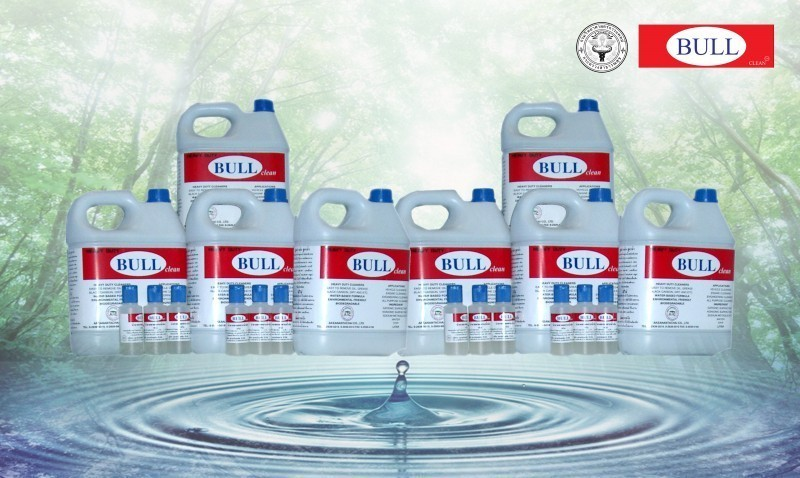Cleaning_solution: (614, 181, 742, 363), (59, 182, 186, 358), (506, 178, 625, 361), (392, 182, 514, 360), (180, 180, 297, 360), (291, 183, 410, 359), (490, 99, 618, 218), (174, 93, 291, 193), (467, 282, 497, 356), (441, 281, 470, 356), (548, 281, 575, 359), (574, 278, 599, 357), (597, 281, 620, 358), (494, 280, 514, 355)
